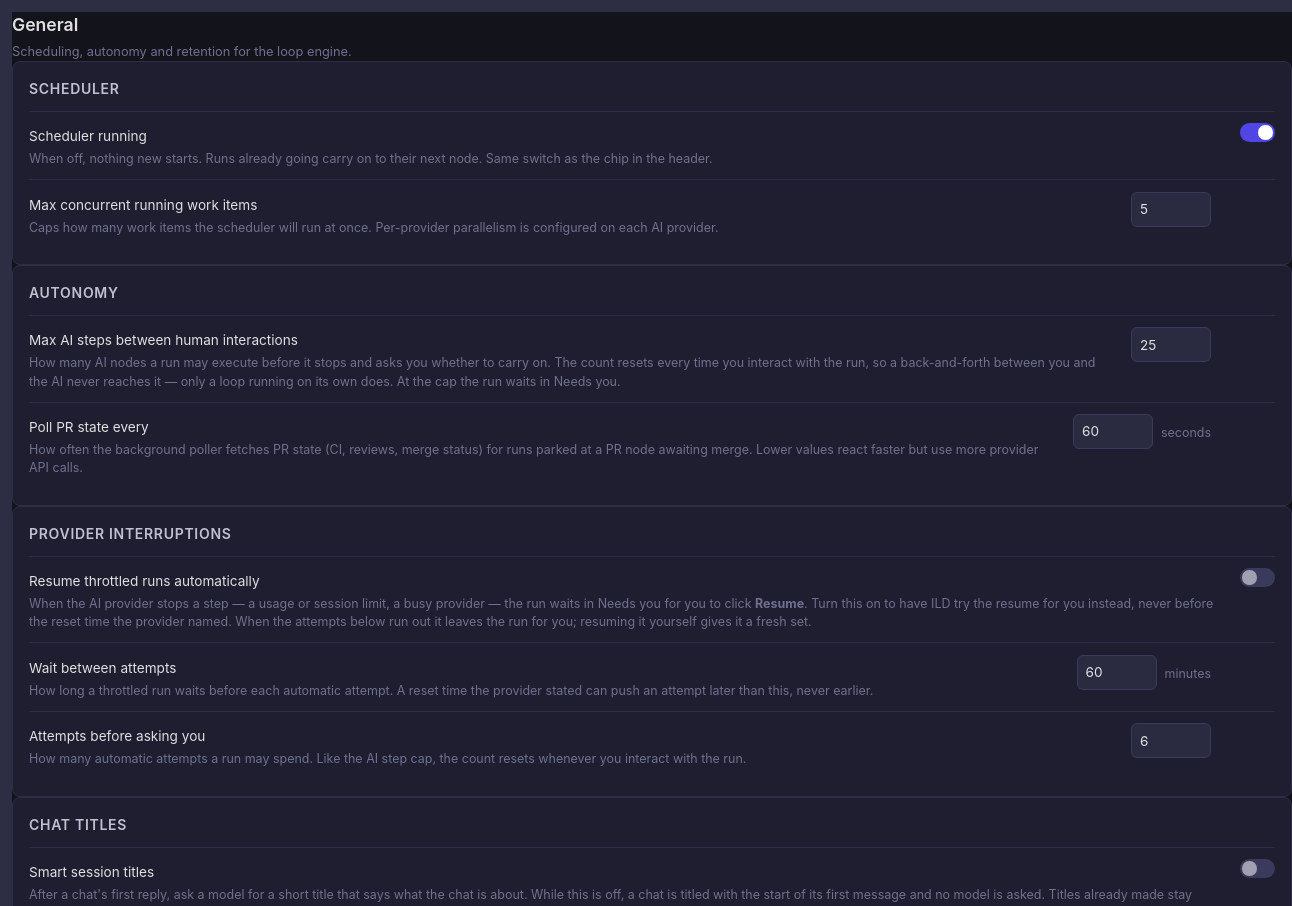
Test: Ild settings › keeps the scheduler switch where it was when the save fails
This screenshot has width=1292, height=906.
Click the checkbox named "Scheduler running" at (1257, 133), box [1240, 123, 1275, 142]
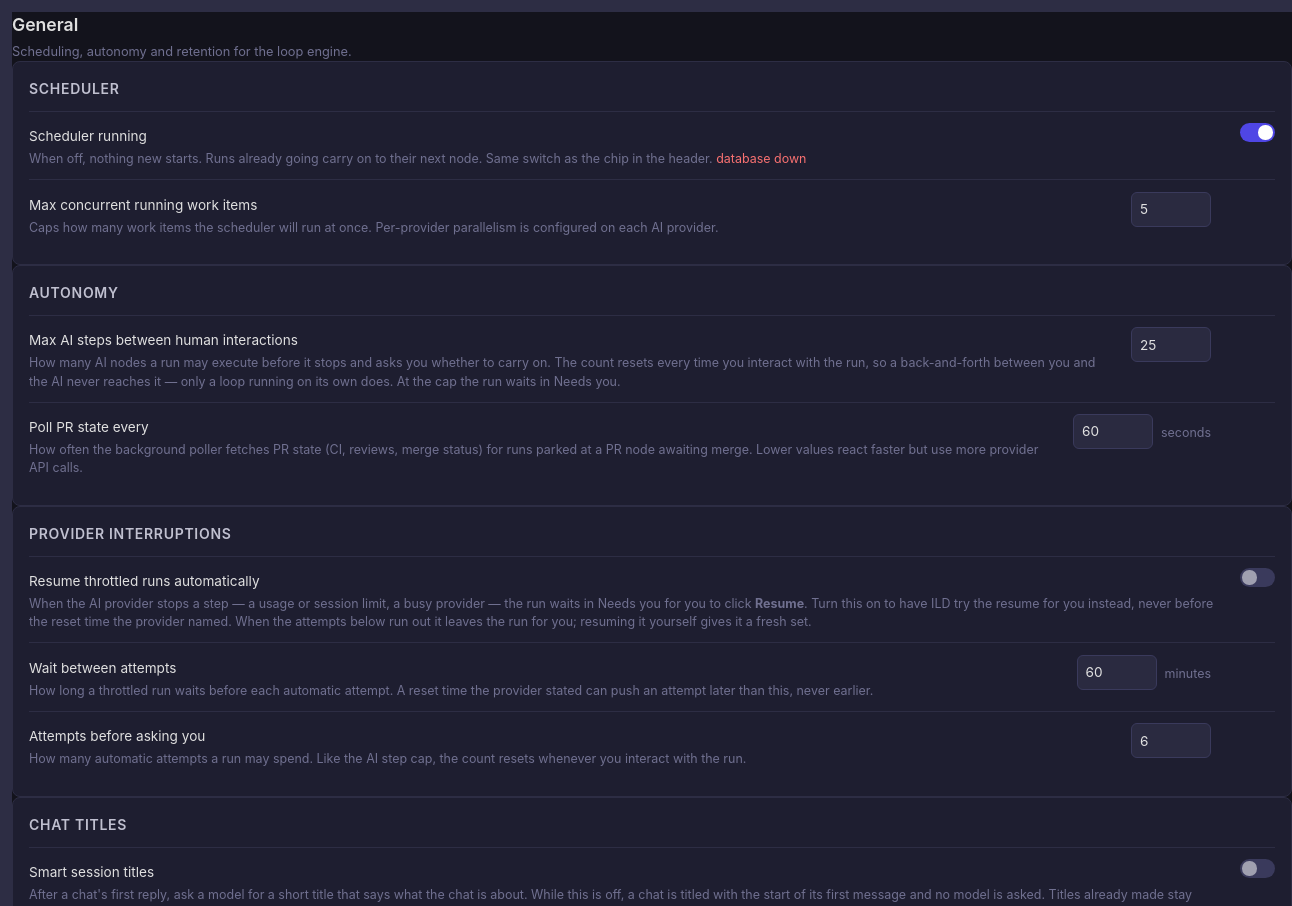
Expected: the text "database down" is shown, [713, 151, 806, 166]
